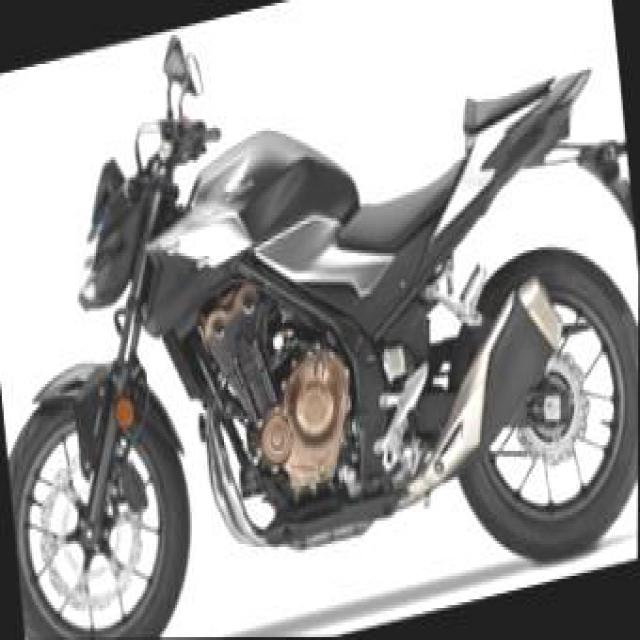CB500F: (0, 6, 638, 637)
